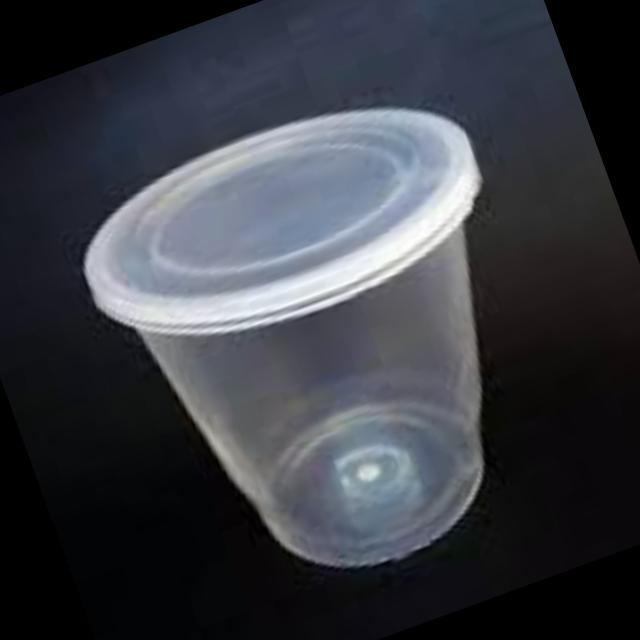GelasPlastik: (56, 61, 598, 628)
